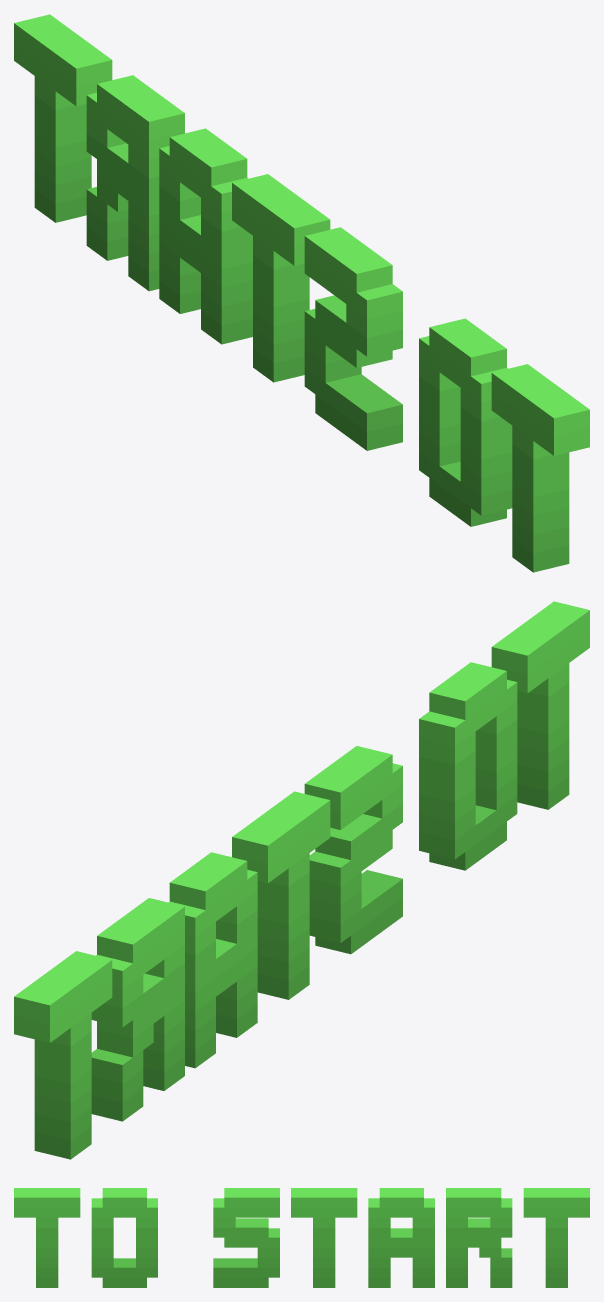
The model's file is mainscreen_to_start.obj.
The picture shows the model from 3 angles, top to bottom: view 1: azimuth 30°, elevation 25°; view 2: azimuth 150°, elevation 25°; view 3: azimuth 270°, elevation 25°; orthographic projection. The views are drawn at different scales.
Bounding box in the file's own units: 2 × 9 × 52.
1 material, 1 textured.
